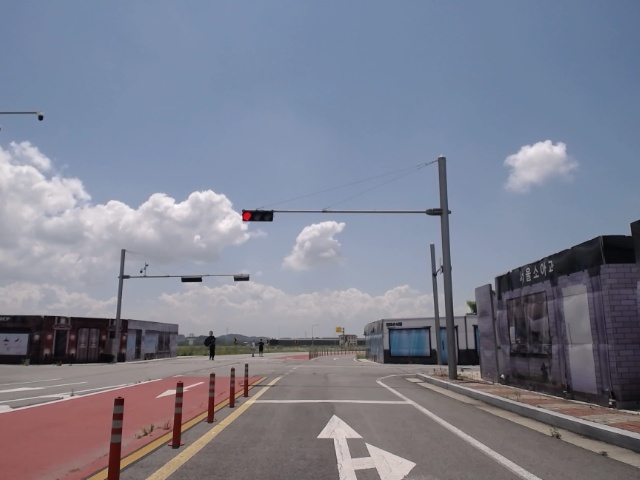red_3: (241, 209, 274, 222)
